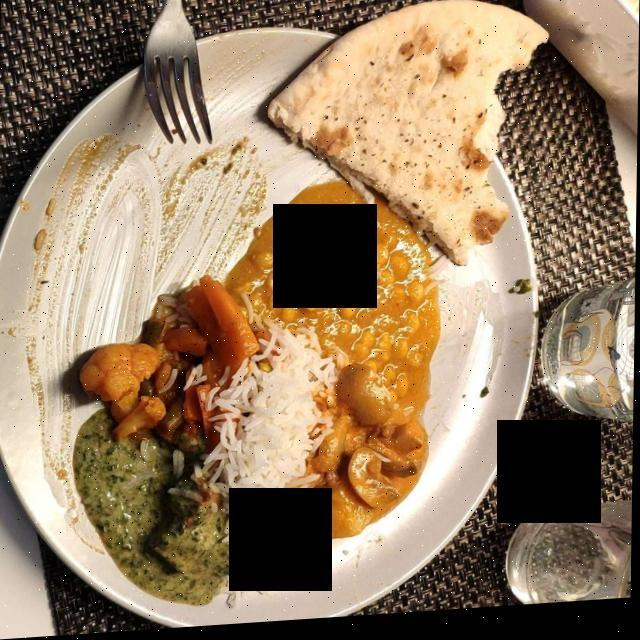mixed-vegetables: (76, 272, 261, 466)
naan-bread: (272, 2, 550, 275)
rice: (212, 331, 326, 614)
soup: (251, 169, 442, 534)
